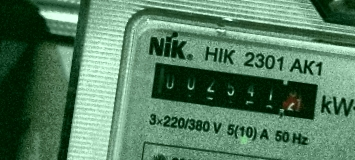0: (162, 69, 178, 91), (183, 70, 198, 92)
1: (263, 79, 278, 104)
2: (203, 71, 220, 95)
4: (244, 76, 258, 99)
5: (223, 74, 239, 99)
6: (284, 98, 297, 112)
screen: (137, 49, 332, 130)
